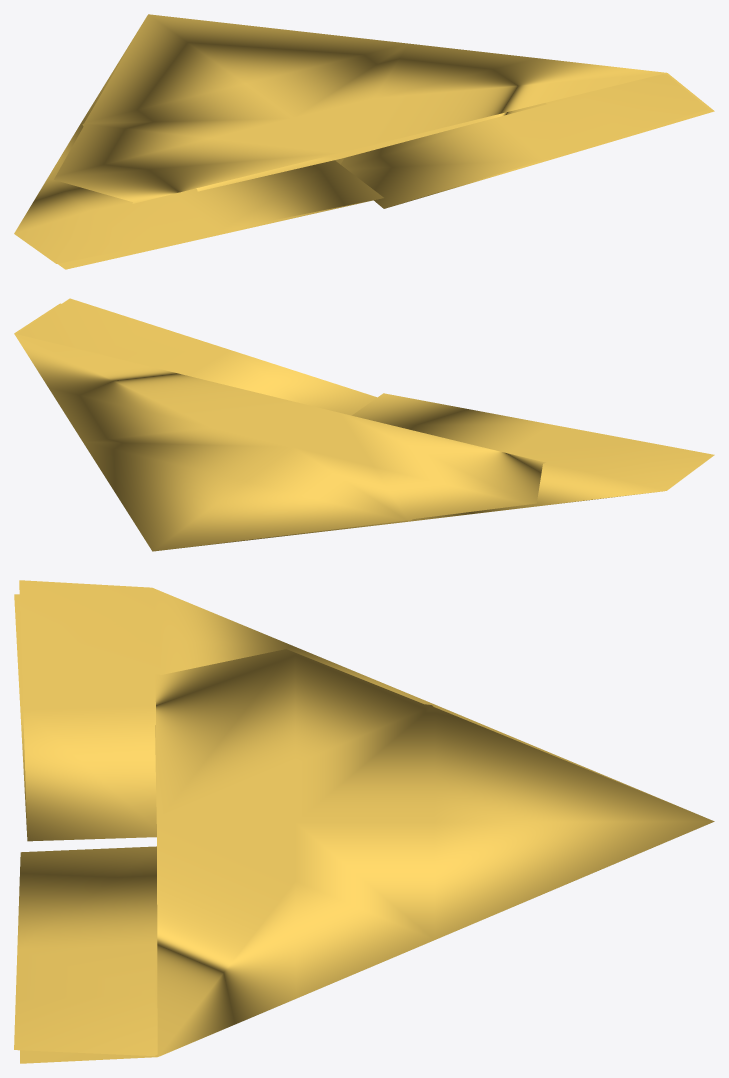
The model's file is Farbig_Drehen_4.fbx.
The picture shows the model from 3 angles, top to bottom: view 1: azimuth 30°, elevation 25°; view 2: azimuth 150°, elevation 25°; view 3: azimuth 270°, elevation 25°; orthographic projection. The views are drawn at different scales.
Parts seen in each view (by area): view 1: Origami_Teil.001; view 2: Origami_Teil.001; view 3: Origami_Teil.001.
Part boxes in pixels (box(x1,y1,x2,y2)): Origami_Teil.001: box(14, 14, 714, 269); Origami_Teil.001: box(14, 298, 714, 551); Origami_Teil.001: box(14, 580, 714, 1063).
Bounding box in the file's own units: 402 × 14.79 × 253.
